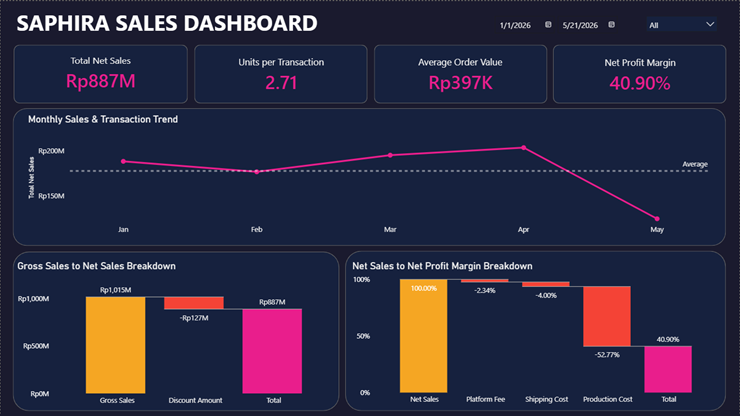

What the dashboard file says about the page in this screenshot:
{"tool":"powerbi","page":{"name":"Overview","canvas":[1280,720],"ordinal":0},"visuals":[{"type":"shape","box":[596.7,432.6,659.4,277.5],"z":0},{"type":"shape","box":[21.7,185,1235,238.3],"z":1000},{"type":"lineChart","title":"Monthly Sales & Transaction Trend","fields":{"Category":["dim_date.month name"],"Y":["_measure.Total Net Sales"]},"box":[42.4,193.8,1191.7,219.6],"z":2000},{"type":"shape","box":[22.7,75.7,301.3,101.5],"z":3000},{"type":"shape","box":[336.2,75.7,299.8,101.5],"z":4000},{"type":"cardVisual","fields":{"Data":["_measure.Total Net Sales"]},"box":[22.7,75.7,301.3,98.4],"z":5000},{"type":"shape","box":[646.6,75.7,299.8,101.5],"z":6000},{"type":"shape","box":[957,75.7,299.8,101.5],"z":7000},{"type":"cardVisual","fields":{"Data":["_measure.Units per Transaction"]},"box":[337.7,78.7,298.3,96.9],"z":8000},{"type":"cardVisual","fields":{"Data":["_measure.AOV"]},"box":[646.6,78.7,299.8,96.9],"z":9000},{"type":"cardVisual","fields":{"Data":["_measure.Net Profit Margin"]},"box":[958.5,80.3,299.8,96.9],"z":10000},{"type":"slicer","fields":{"Values":["fact_transactions.province","fact_transactions.city"]},"box":[1108.3,15,143.3,45],"z":11000},{"type":"slicer","fields":{"Values":["fact_transactions.transaction_date"]},"box":[843.3,15,251.7,45],"z":12000},{"type":"shape","box":[20.9,434.1,565.4,276],"z":13000},{"type":"textbox","box":[23.3,5,601.7,66.7],"z":14000},{"type":"waterfallChart","title":"Gross Sales to Net Sales Breakdown","fields":{"Category":["waterfall_data.Component"],"Y":["waterfall_data.waterfall Amount"]},"box":[23.9,449,562.4,261.1],"z":15000},{"type":"waterfallChart","title":"Net Sales to Net Profit Margin Breakdown","fields":{"Category":["waterfall_profit.Component"],"Y":["waterfall_net_sales.waterfall_profit"]},"box":[604.2,449,642.9,259.6],"z":16000}]}

Visuals, with their boxes in screenshot pixels (x1, y1, x2, y2), scaled from the page's 1280x720 canvas onto the 740x416 screenshot:
shape: [345, 250, 726, 410]
shape: [13, 107, 727, 245]
"Monthly Sales & Transaction Trend" lineChart: [25, 112, 713, 239]
shape: [13, 44, 187, 102]
shape: [194, 44, 368, 102]
cardVisual - _measure.Total Net Sales: [13, 44, 187, 101]
shape: [374, 44, 547, 102]
shape: [553, 44, 727, 102]
cardVisual - _measure.Units per Transaction: [195, 45, 368, 101]
cardVisual - _measure.AOV: [374, 45, 547, 101]
cardVisual - _measure.Net Profit Margin: [554, 46, 727, 102]
slicer - fact_transactions.province x fact_transactions.city: [641, 9, 724, 35]
slicer - fact_transactions.transaction_date: [488, 9, 633, 35]
shape: [12, 251, 339, 410]
textbox: [13, 3, 361, 41]
"Gross Sales to Net Sales Breakdown" waterfallChart: [14, 259, 339, 410]
"Net Sales to Net Profit Margin Breakdown" waterfallChart: [349, 259, 721, 409]
